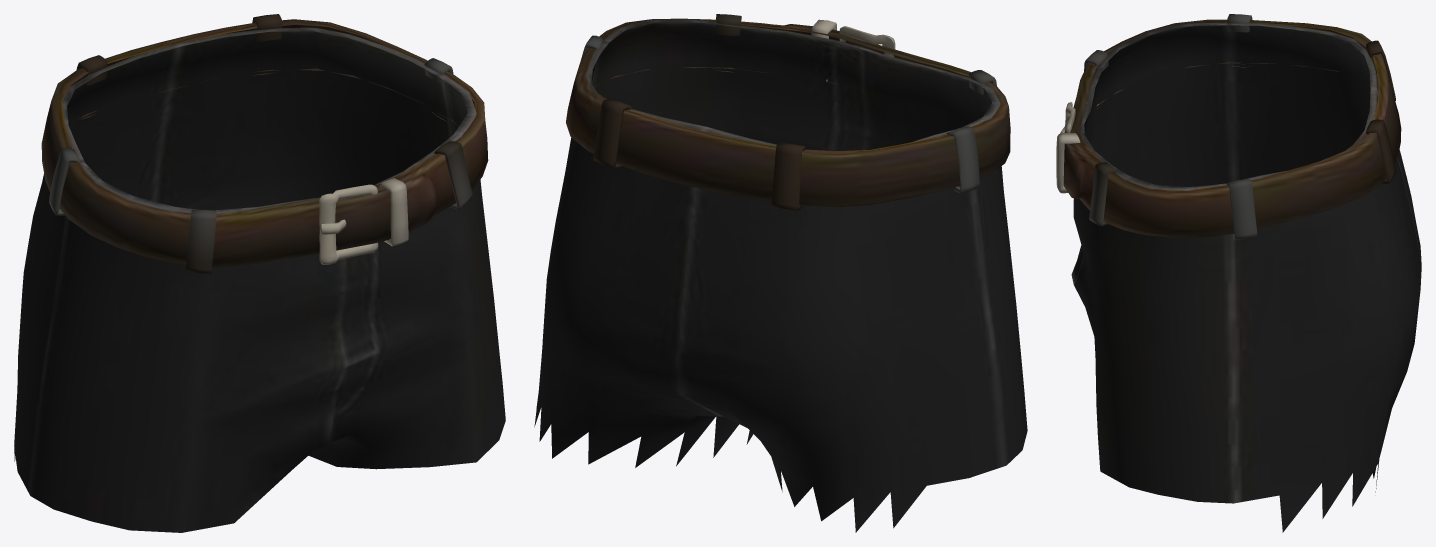
The model's file is cadera.obj.
3 views of the same model, side by side, from view 1: azimuth 30°, elevation 25°; view 2: azimuth 150°, elevation 25°; view 3: azimuth 270°, elevation 25° (orthographic). The views are drawn at different scales.
Visible parts, largest first — view 1: node_id797; view 2: node_id797; view 3: node_id797.
Boxes of the visible parts, x1,y1,x2,y2 form: node_id797: (14,14,505,532); node_id797: (534,14,1027,532); node_id797: (1056,14,1421,532).
Size of the model in its own units: 0.3473 by 0.2796 by 0.2636.
1 material, 1 textured.
